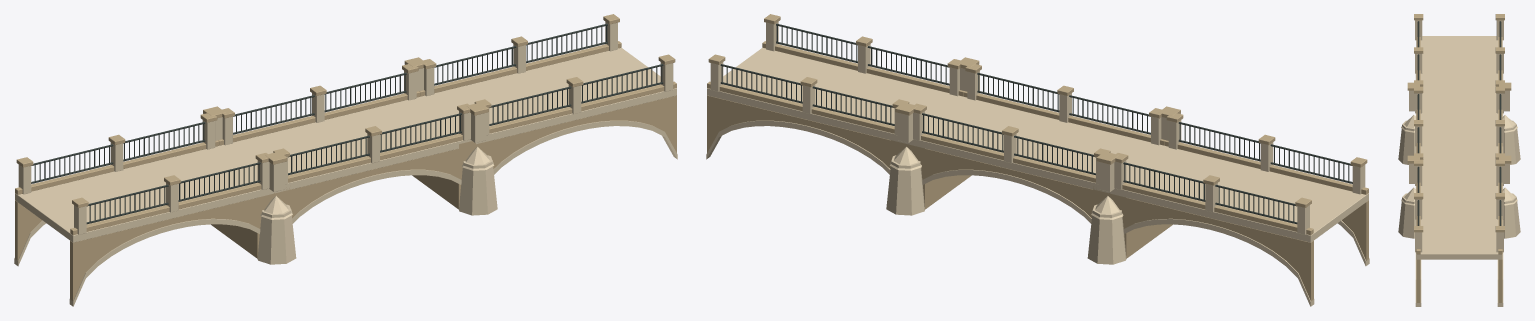
Rendered from bridge_assembly.glb.
The picture shows the model from 3 angles, left to right: view 1: azimuth 30°, elevation 25°; view 2: azimuth 150°, elevation 25°; view 3: azimuth 270°, elevation 25°; orthographic projection. The views are drawn at different scales.
Parts seen in each view (by area): view 1: Bridge stone deck, Bridge stone deck.002, Bridge stone deck.001, Cutwater.003, Cutwater, Parapet curb.001, Parapet curb.002, Parapet curb.004, Parapet curb, Parapet curb.005, Parapet curb.003, Pier core.001 (+7 smaller); view 2: Bridge stone deck, Bridge stone deck.002, Bridge stone deck.001, Cutwater.002, Cutwater.001, Parapet curb, Parapet curb.003, Parapet curb.005, Parapet curb.001, Parapet curb.004, Parapet curb.002, Pier core.001 (+7 smaller); view 3: Bridge stone deck.002, Bridge stone deck.001, Bridge stone deck, Cutwater.002, Cutwater.003, Cutwater, Cutwater.001, Arch spandrel.064, Arch spandrel.080, Slim iron railing.008, Slim iron railing.010, Slim iron railing.001 (+33 smaller).
Boxes of the visible parts, x1=… form: Bridge stone deck: x1=15, y1=146, x2=273, y2=242; Bridge stone deck.002: x1=421, y1=47, x2=676, y2=144; Bridge stone deck.001: x1=237, y1=97, x2=462, y2=193; Cutwater.003: x1=459, y1=155, x2=497, y2=215; Cutwater: x1=257, y1=204, x2=296, y2=264; Parapet curb.001: x1=15, y1=140, x2=218, y2=194; Parapet curb.002: x1=218, y1=91, x2=420, y2=145; Parapet curb.004: x1=419, y1=41, x2=621, y2=96; Parapet curb: x1=70, y1=183, x2=261, y2=235; Parapet curb.005: x1=489, y1=81, x2=676, y2=133; Parapet curb.003: x1=288, y1=133, x2=462, y2=182; Pier core.001: x1=412, y1=140, x2=492, y2=209; Bridge stone deck: x1=1110, y1=146, x2=1368, y2=242; Bridge stone deck.002: x1=707, y1=47, x2=962, y2=144; Bridge stone deck.001: x1=908, y1=97, x2=1149, y2=193; Cutwater.002: x1=886, y1=155, x2=924, y2=215; Cutwater.001: x1=1087, y1=204, x2=1126, y2=264; Parapet curb: x1=1165, y1=140, x2=1368, y2=194; Parapet curb.003: x1=963, y1=91, x2=1165, y2=145; Parapet curb.005: x1=762, y1=41, x2=964, y2=96; Parapet curb.001: x1=1122, y1=183, x2=1313, y2=235; Parapet curb.004: x1=707, y1=81, x2=894, y2=133; Parapet curb.002: x1=921, y1=133, x2=1095, y2=182; Pier core.001: x1=891, y1=140, x2=971, y2=209; Bridge stone deck.002: x1=1416, y1=181, x2=1502, y2=259; Bridge stone deck.001: x1=1420, y1=108, x2=1498, y2=181; Bridge stone deck: x1=1420, y1=36, x2=1498, y2=108; Cutwater.002: x1=1503, y1=193, x2=1520, y2=238; Cutwater.003: x1=1398, y1=193, x2=1415, y2=238; Cutwater: x1=1398, y1=120, x2=1415, y2=164; Cutwater.001: x1=1503, y1=120, x2=1520, y2=164; Arch spandrel.064: x1=1498, y1=259, x2=1502, y2=302; Arch spandrel.080: x1=1416, y1=259, x2=1420, y2=302; Slim iron railing.008: x1=1499, y1=166, x2=1501, y2=225; Slim iron railing.010: x1=1417, y1=166, x2=1419, y2=225; Slim iron railing.001: x1=1417, y1=21, x2=1419, y2=80.
Size of the model in its own units: 24 by 3.89 by 5.68.
